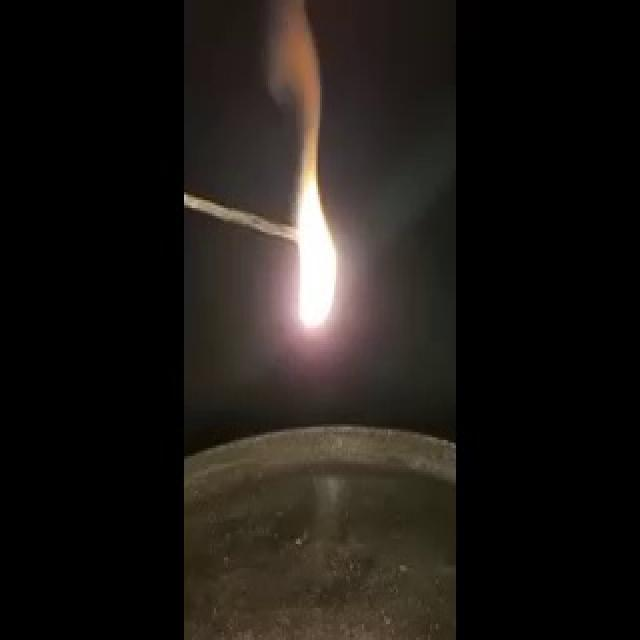fire: (279, 116, 349, 346)
